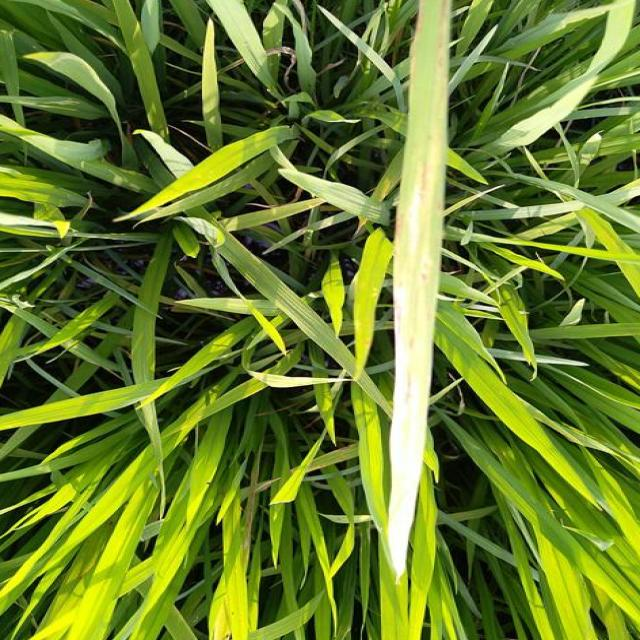Leaf Streak: (386, 162, 439, 575)
